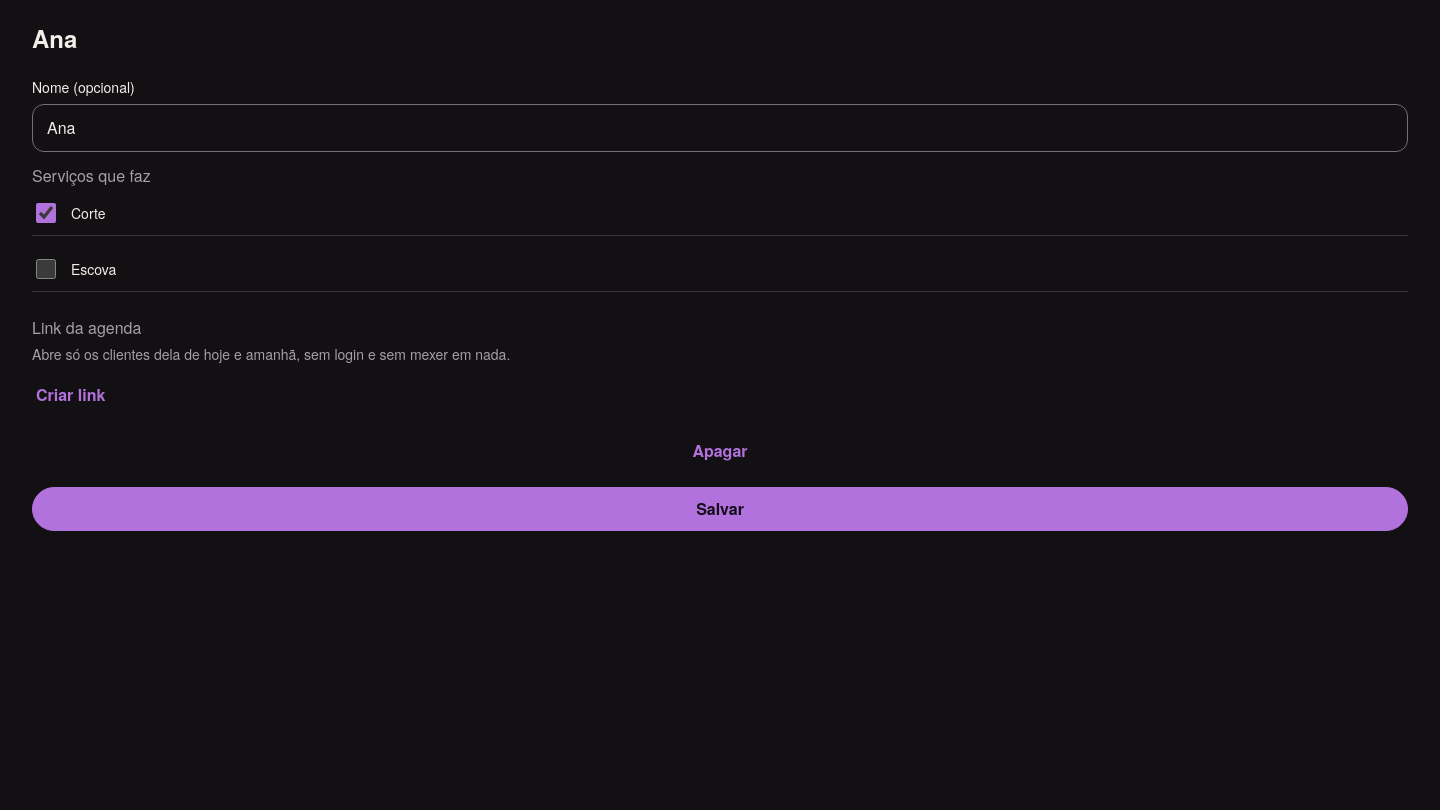
Test: PainelPessoa: editar › a última ativa não pode ser apagada
Click the button "Apagar".
click(720, 451)  # box [688,429,752,473]
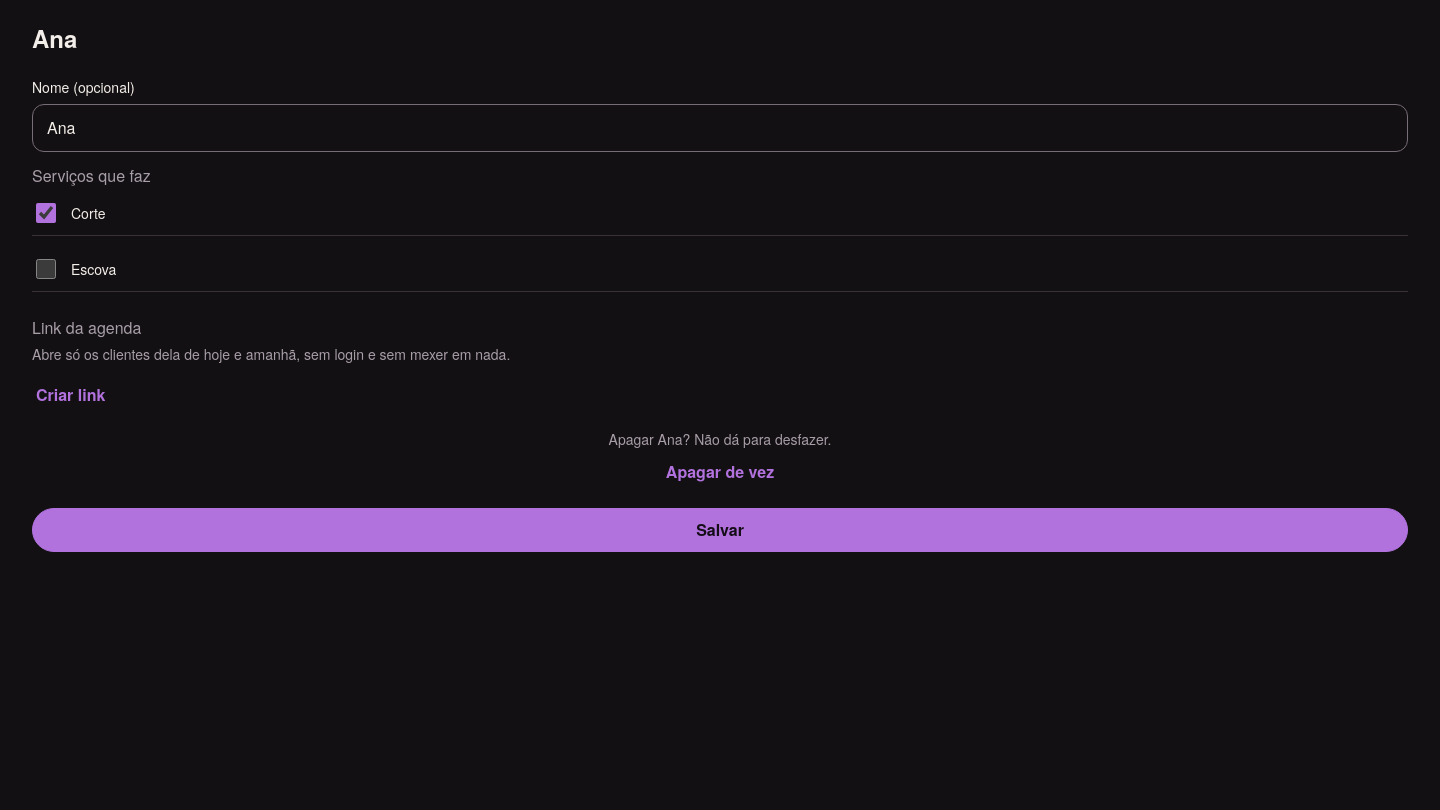
Click the button "Apagar de vez".
click(720, 472)  # box [662,450,778,494]
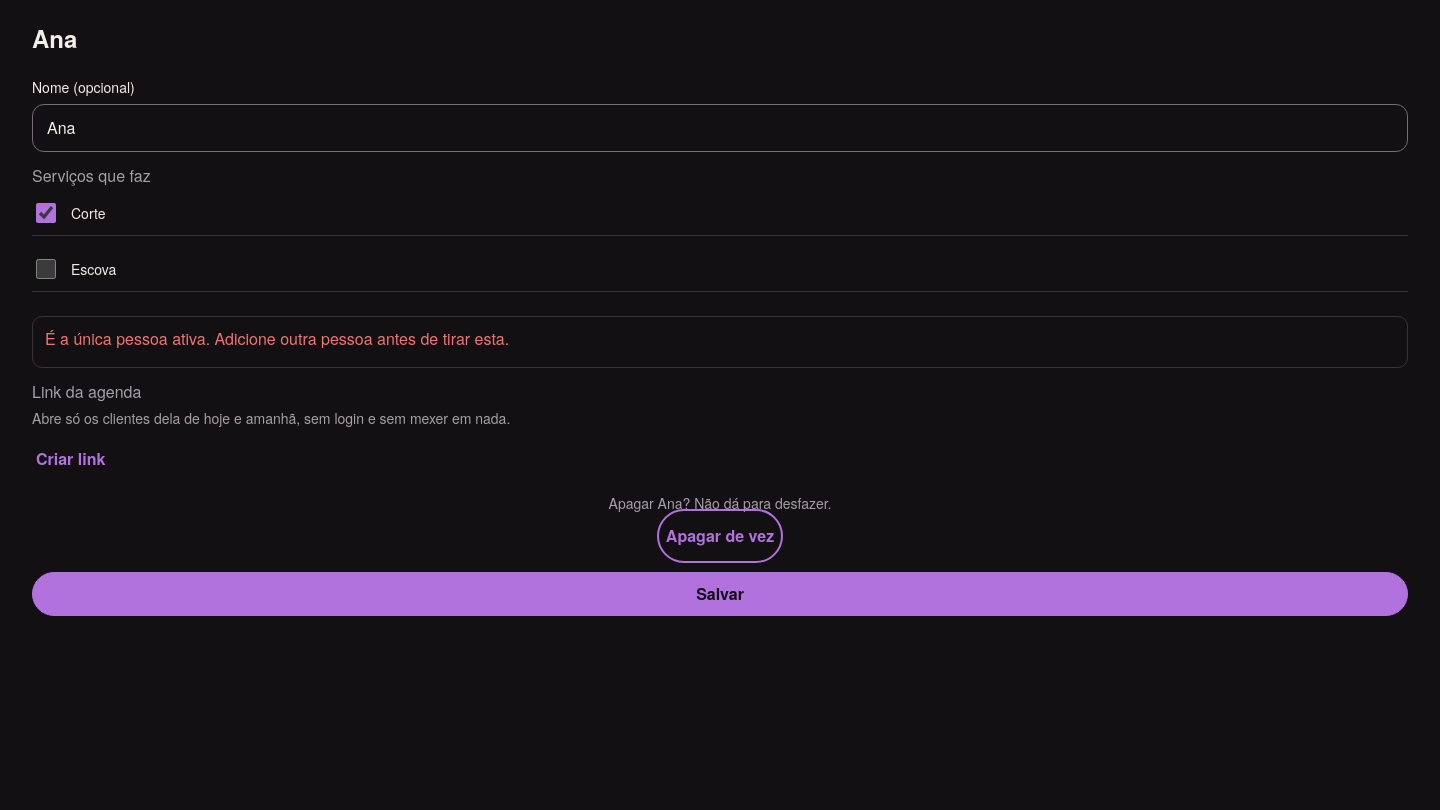
expect the message shows "única pessoa ativa": met, box [45,327,509,350]
